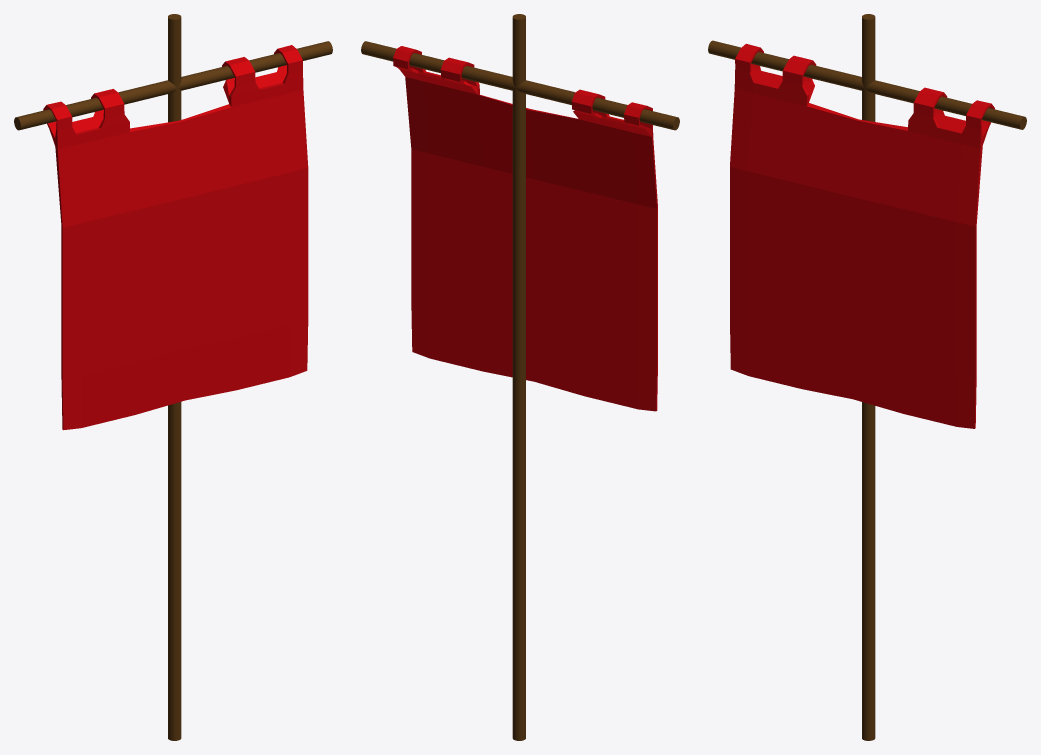
File: Flag v4.fbx
3 renders of one model, left to right at view 1: azimuth 30°, elevation 25°; view 2: azimuth 150°, elevation 25°; view 3: azimuth 330°, elevation 25°, orthographic.
Parts seen in each view (by area): view 1: Cube, Cylinder, Cylinder.001; view 2: Cube, Cylinder, Cylinder.001; view 3: Cube, Cylinder, Cylinder.001.
Boxes of the visible parts, bbox=[...] form: Cube: bbox=[43, 45, 308, 430]; Cylinder: bbox=[168, 14, 181, 740]; Cylinder.001: bbox=[14, 41, 332, 130]; Cube: bbox=[393, 46, 657, 411]; Cylinder: bbox=[512, 14, 525, 740]; Cylinder.001: bbox=[361, 41, 679, 130]; Cube: bbox=[730, 43, 994, 428]; Cylinder: bbox=[862, 14, 875, 740]; Cylinder.001: bbox=[708, 40, 1026, 129].
Bounding box in the file's own units: 761 × 1681 × 82.72.
